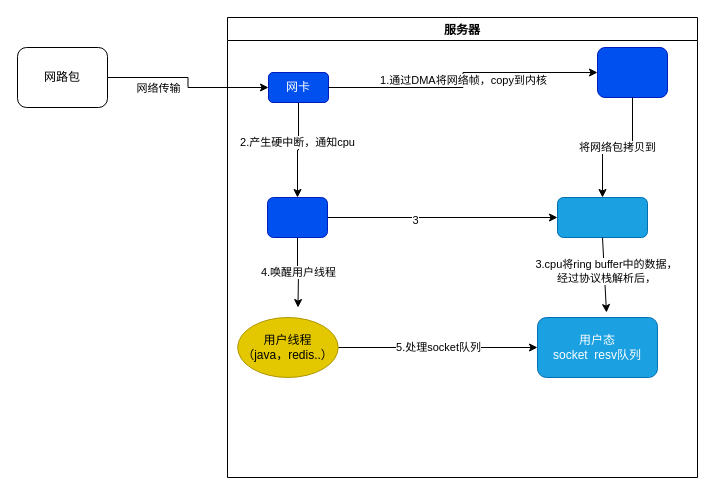
The diagram is 715 pixels wide and 495 high, and some of its shapes have lost their labels. The shapes that lost their labels are listed below. From the top down, each one's centre as x and y in pixels, then its label:
(632,72): DMA
(297,217): cpu
(602,217): 内核态缓冲区
